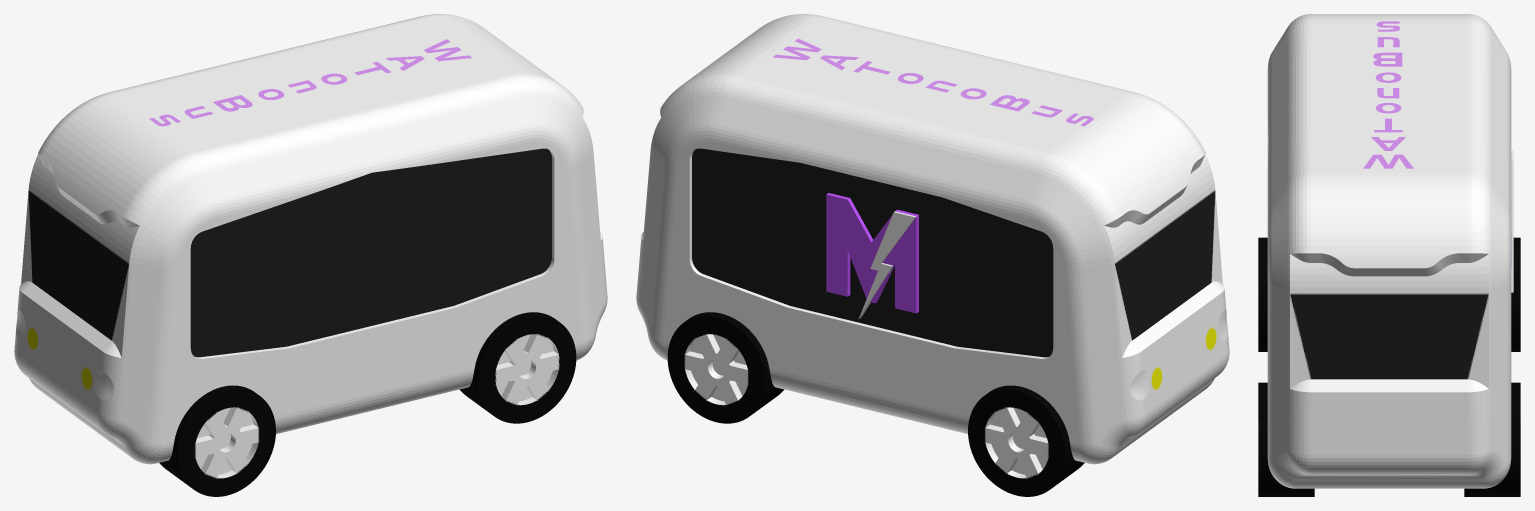
Rendered from bus.dae.
The picture shows the model from 3 angles, left to right: view 1: azimuth 30°, elevation 25°; view 2: azimuth 150°, elevation 25°; view 3: azimuth 270°, elevation 25°; orthographic projection.
Visible parts, largest first — view 1: mini bus v4, watonobusText; view 2: mini bus v4, watonobusText; view 3: mini bus v4, watonobusText.
Part boxes in pixels (x1,y1,x2,y2): mini bus v4: (14, 14, 607, 496); watonobusText: (149, 39, 471, 126); mini bus v4: (636, 14, 1229, 496); watonobusText: (773, 38, 1093, 126); mini bus v4: (1258, 14, 1520, 496); watonobusText: (1363, 21, 1413, 168).
Size of the model in its own units: 4.01 by 1.82 by 2.47.
2 materials, 1 textured.
